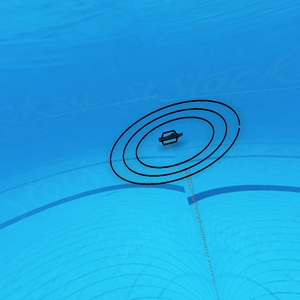circle: (107, 92, 242, 197)
submarine: (157, 129, 184, 145)
